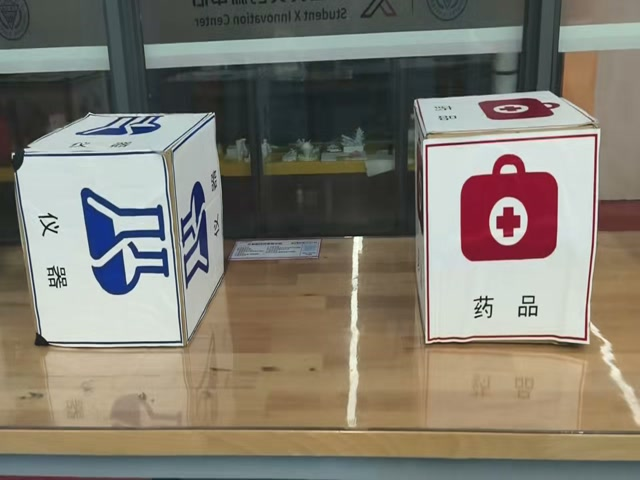Cube_ins: (26, 112, 212, 153)
Cube_medicine: (414, 92, 596, 141)
